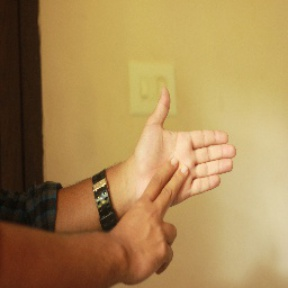N: (113, 86, 241, 273)
